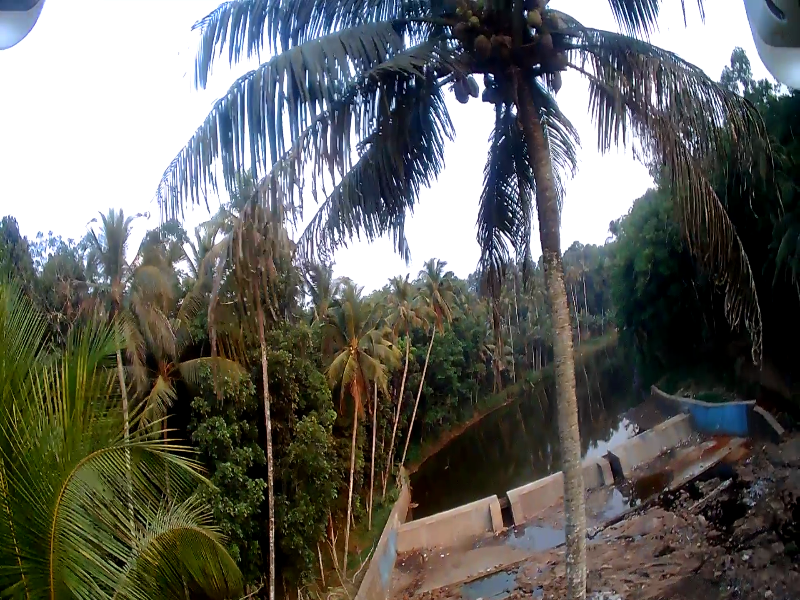coconut: (528, 10, 544, 29), (475, 35, 508, 44), (455, 79, 477, 91), (455, 20, 468, 35), (542, 37, 556, 47), (556, 52, 567, 64)
